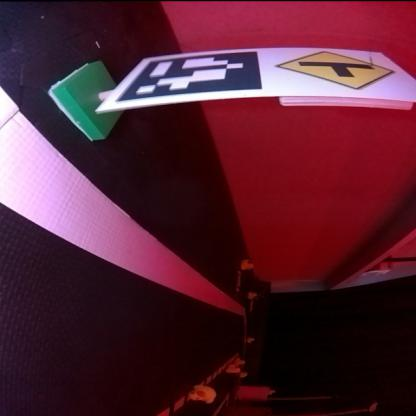Duckie: (192, 384, 218, 404), (226, 364, 242, 372), (243, 260, 254, 270), (236, 359, 246, 366), (249, 291, 257, 299), (241, 372, 248, 377), (248, 338, 255, 342)
Intersection sign: (272, 50, 401, 92)
QR code: (116, 50, 262, 100)
